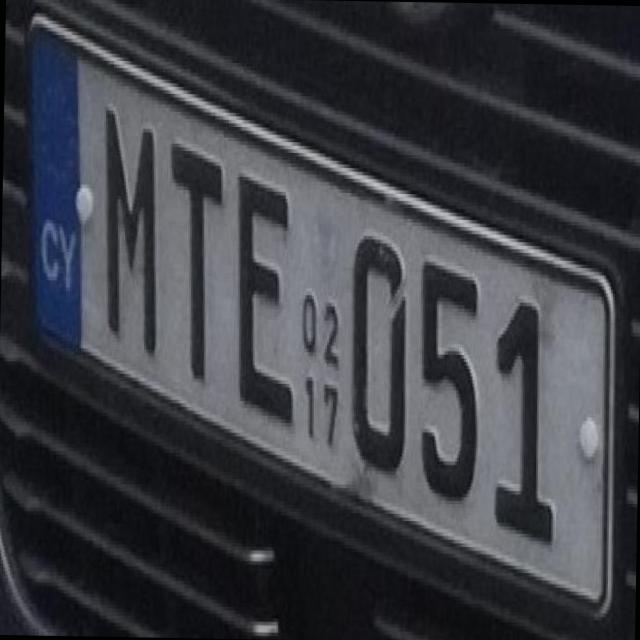0: (332, 213, 416, 474)
1: (478, 284, 563, 538)
5: (402, 247, 487, 511)
E: (218, 151, 304, 430)
M: (84, 81, 170, 356)
T: (150, 121, 230, 382)
